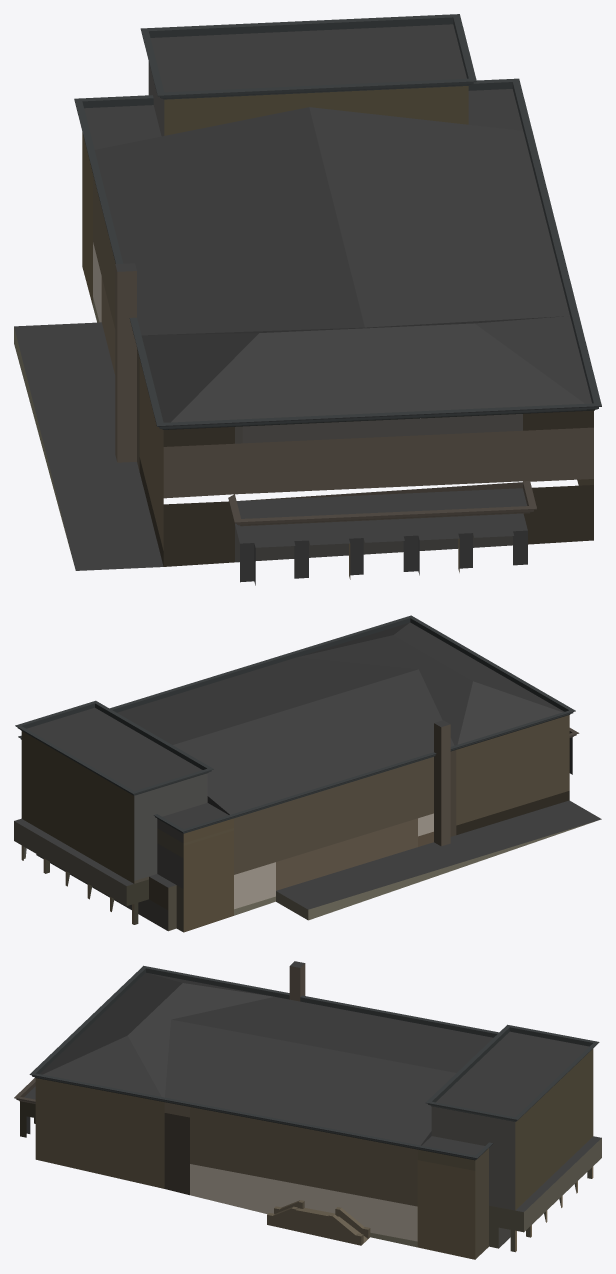
Rendered from memorial-auditorium.glb.
3 renders of one model, top to bottom at view 1: azimuth 30°, elevation 25°; view 2: azimuth 150°, elevation 25°; view 3: azimuth 270°, elevation 25°, orthographic. The views are drawn at different scales.
Visible parts, largest first — view 1: LOD0; view 2: LOD0; view 3: LOD0.
Part boxes in pixels (x1=…): LOD0: x1=14, y1=14, x2=601, y2=585; LOD0: x1=14, y1=615, x2=601, y2=932; LOD0: x1=14, y1=961, x2=601, y2=1259.
Size of what is drawn, in the model's own units: 90.47 by 26.91 by 106.
2 materials, 2 textured.
